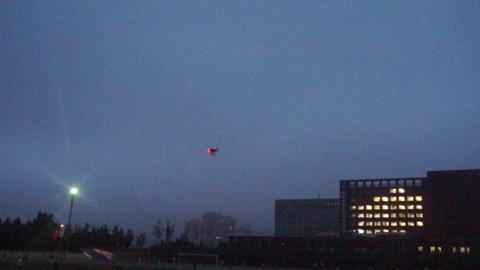UAV: (207, 147, 218, 156)
